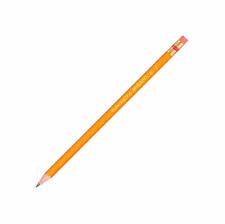Lapiz: (30, 31, 203, 191)
